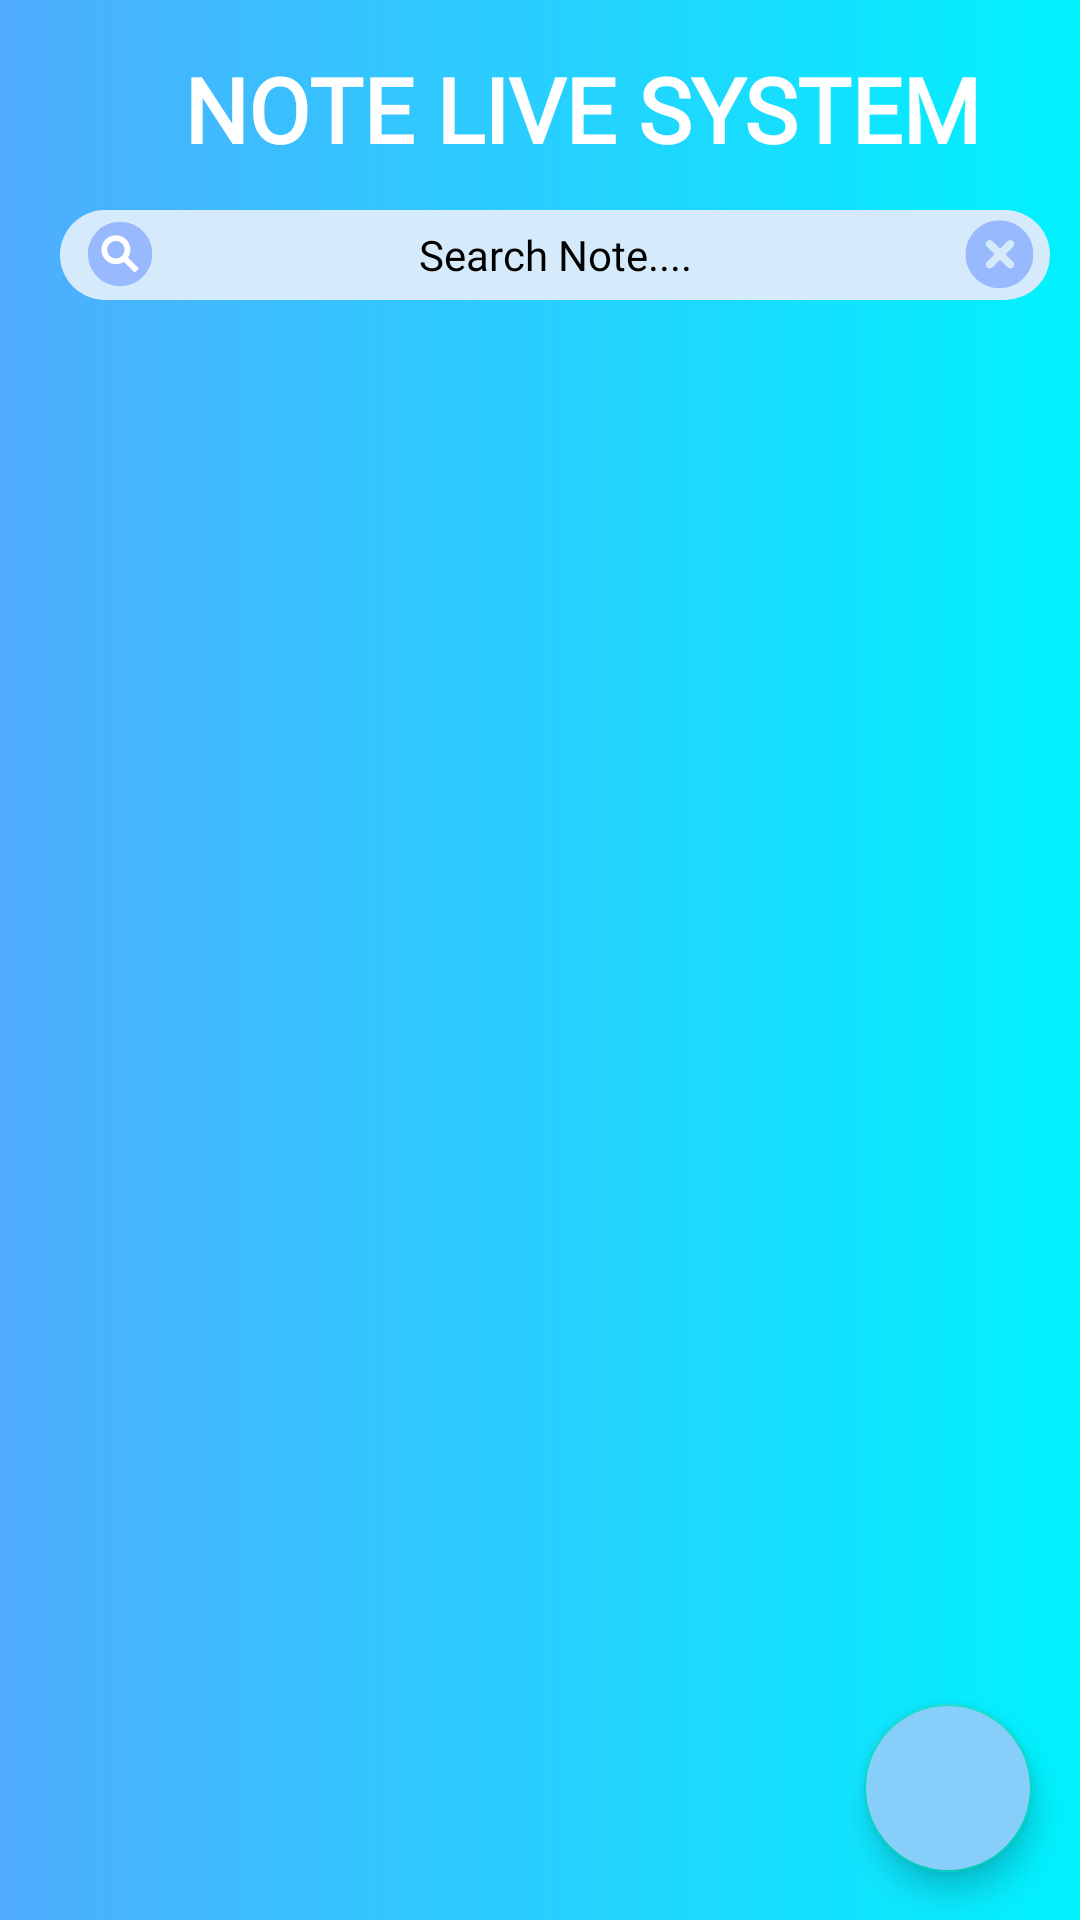

Named icons in this screenshot (1080x1920) and their centers, point (x, y):
clear: point (999, 255)
